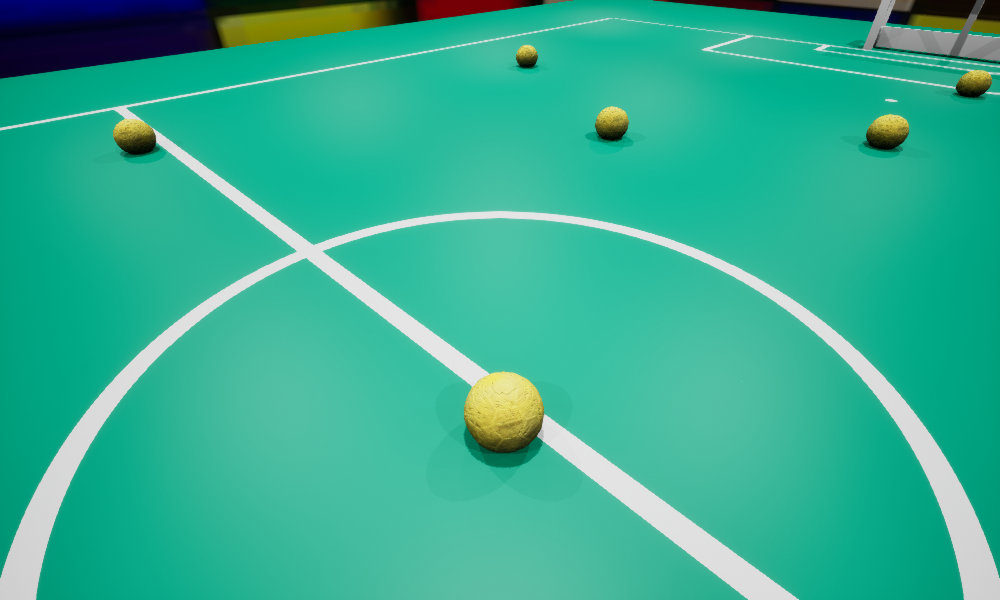b: (464, 371, 543, 452), (113, 119, 155, 153), (866, 114, 908, 148), (595, 106, 628, 139), (956, 70, 991, 95), (516, 45, 537, 67)
g: (863, 0, 999, 60)
